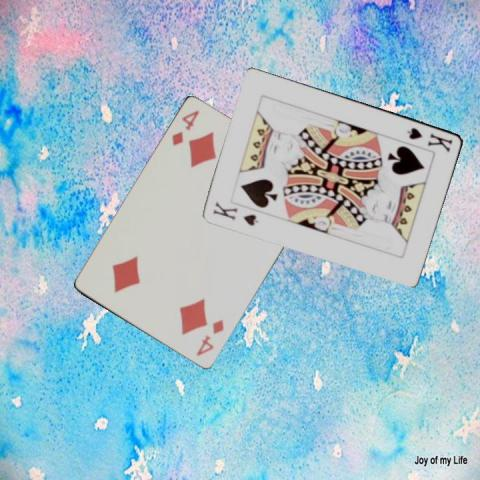4d: (193, 317, 225, 358), (168, 107, 200, 148)
Ks: (404, 124, 454, 153), (210, 199, 260, 227)
